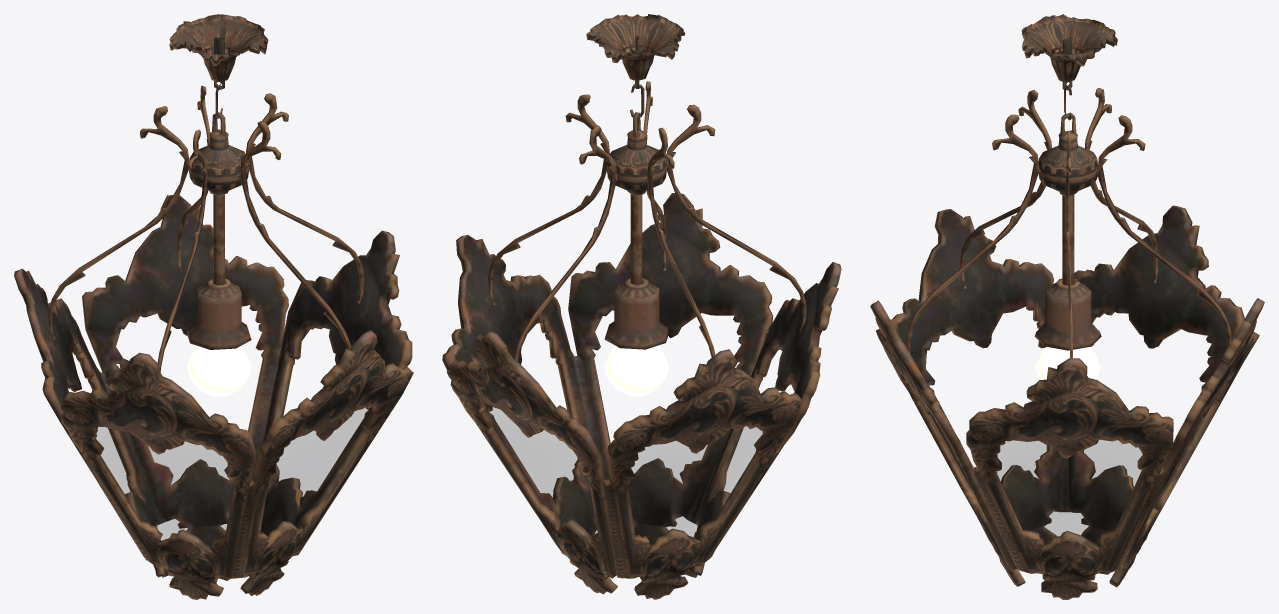
The model's file is lantern_chandelier_01.glb.
3 renders of one model, left to right at view 1: azimuth 30°, elevation 25°; view 2: azimuth 150°, elevation 25°; view 3: azimuth 270°, elevation 25°, orthographic.
Visible parts, largest first — view 1: lantern_chandelier_01; view 2: lantern_chandelier_01; view 3: lantern_chandelier_01.
Boxes of the visible parts, box(x1,y1,x2,y2) form: lantern_chandelier_01: box(14, 14, 413, 599); lantern_chandelier_01: box(442, 14, 841, 599); lantern_chandelier_01: box(870, 14, 1264, 599).
Size of the model in its own units: 0.5792 by 0.8776 by 0.5746.
3 materials, 2 textured.
